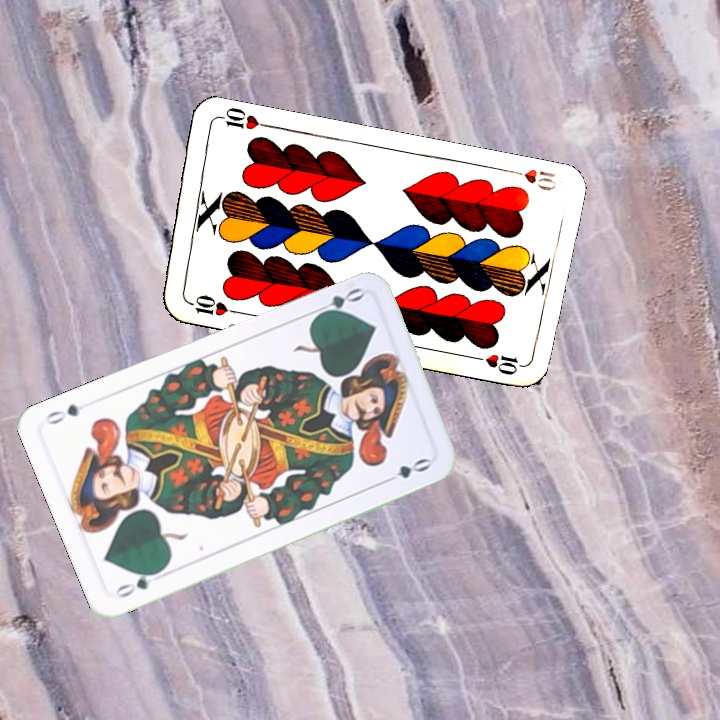GO: (308, 283, 366, 321), (111, 565, 165, 601)
H10: (182, 290, 240, 319), (502, 165, 559, 194)
